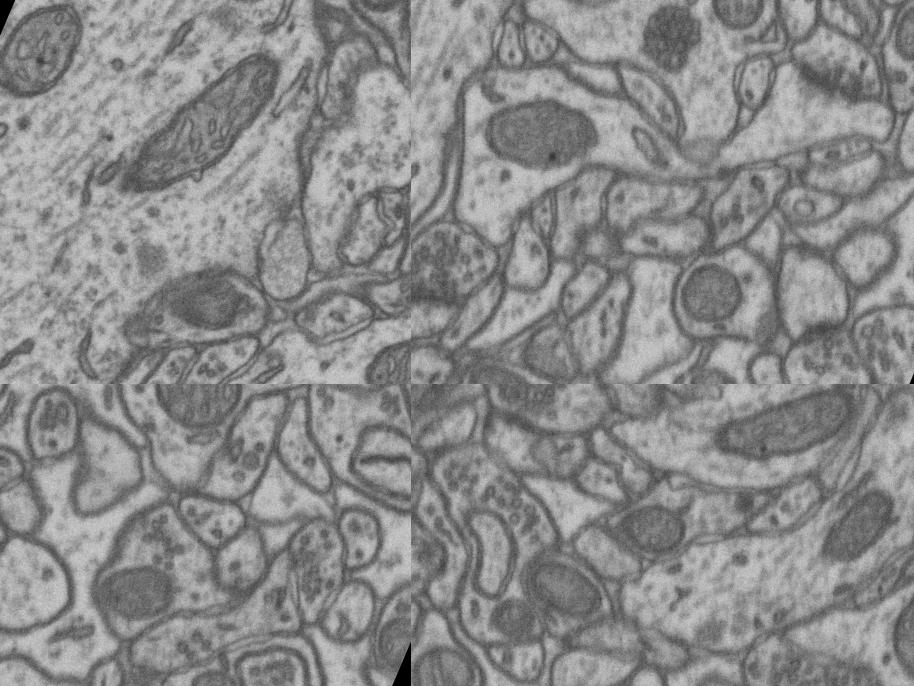mitochondria: (102, 5, 301, 245), (454, 65, 607, 202), (701, 384, 865, 502), (0, 0, 107, 127), (664, 236, 776, 348), (811, 461, 914, 580), (157, 253, 262, 362), (87, 542, 197, 644), (131, 384, 267, 453), (514, 547, 618, 635), (602, 485, 700, 575), (433, 327, 547, 384), (874, 555, 914, 686), (655, 336, 758, 384), (344, 312, 411, 384), (690, 0, 789, 48), (411, 629, 490, 686), (867, 0, 914, 92), (356, 602, 411, 679), (336, 0, 411, 39), (486, 596, 540, 648), (172, 655, 254, 686)
